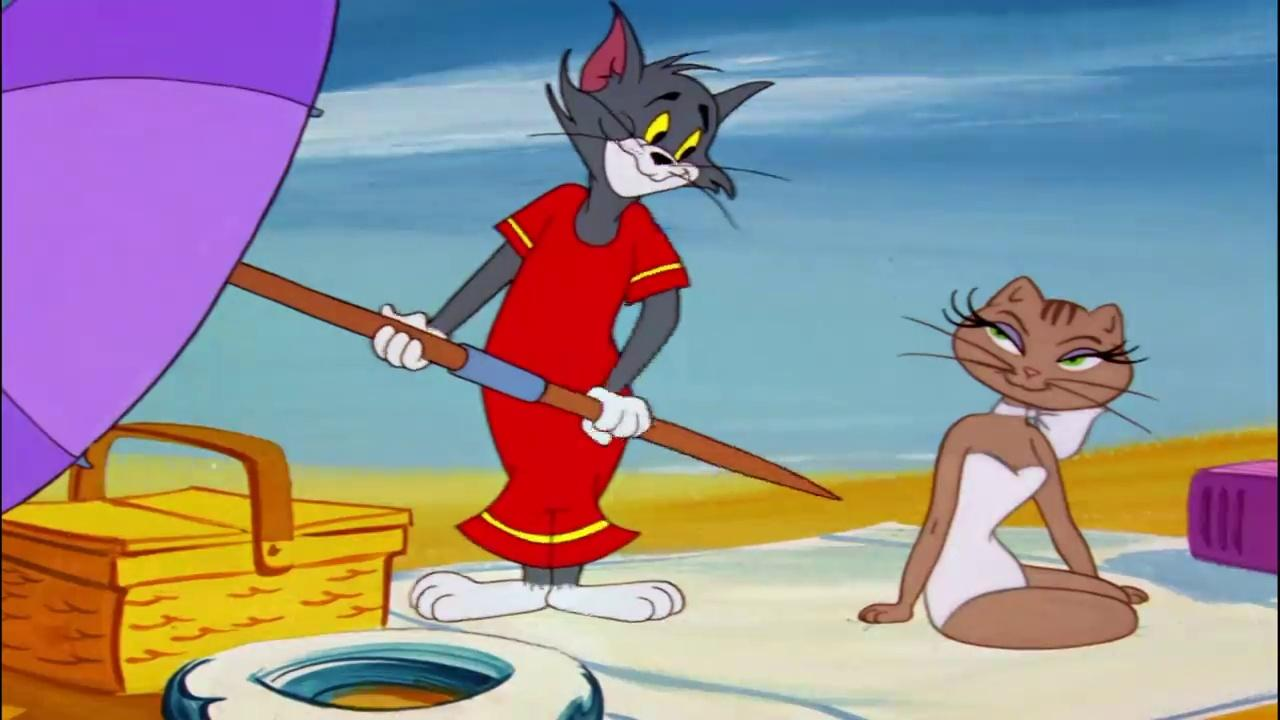Tom: (368, 0, 777, 630)
